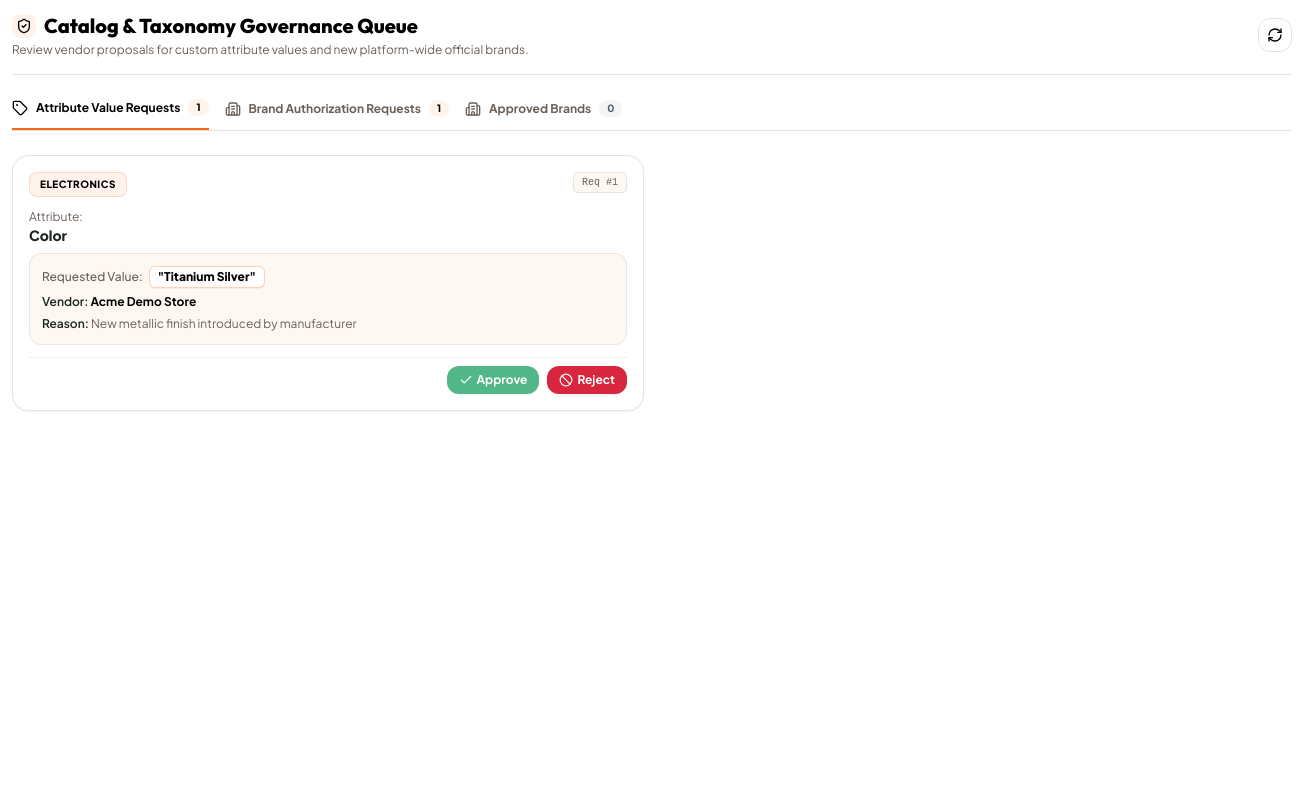
it: GovernanceQueueModule — Real Backend API Wiring & Governance Flow › 2. approves an attribute-value request via POST endpoint and removes it from queue
The image size is (1304, 812).
Expected: the text "\"Titanium Silver\"" is shown, [149,266,265,288]
Click the button "Approve".
click(493, 380)  # box [447,366,540,394]
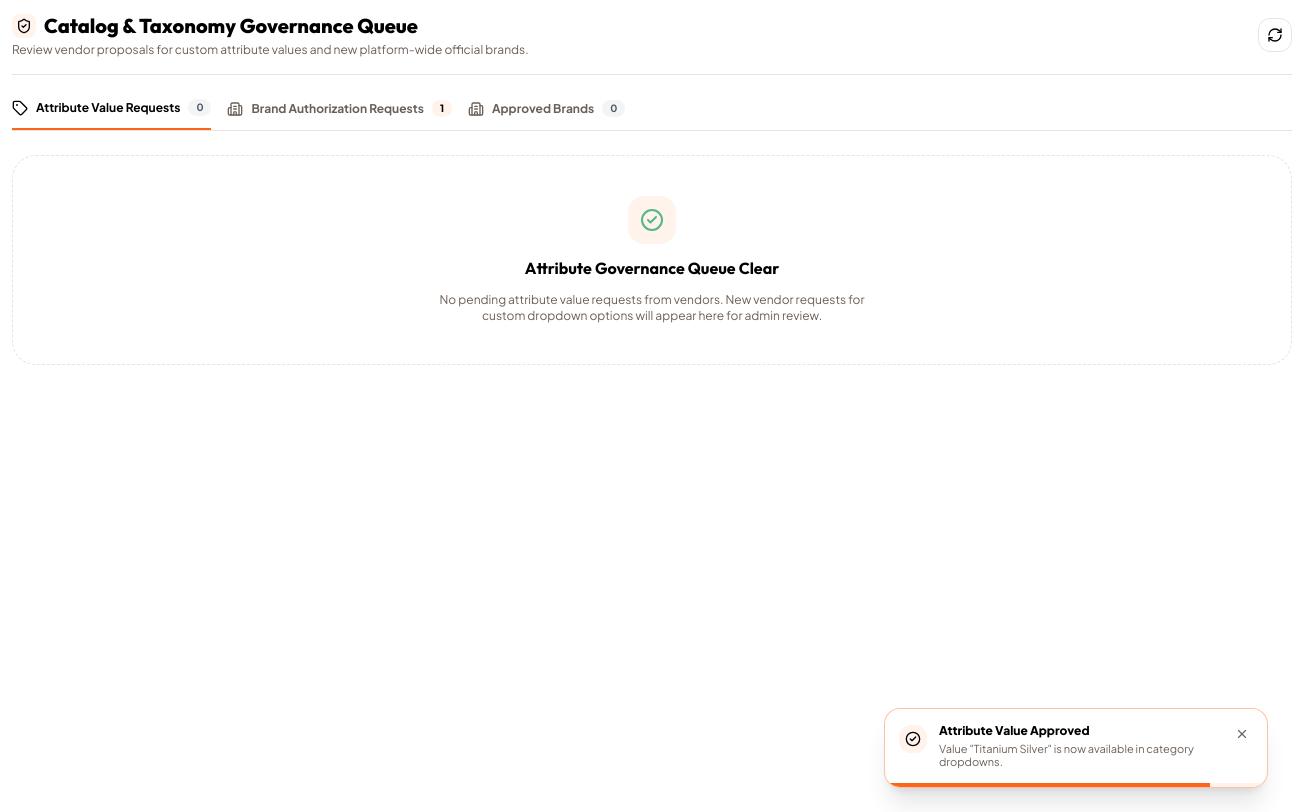
Now the heading "Attribute Governance Queue Clear" is shown, box [525,258,779,278]
